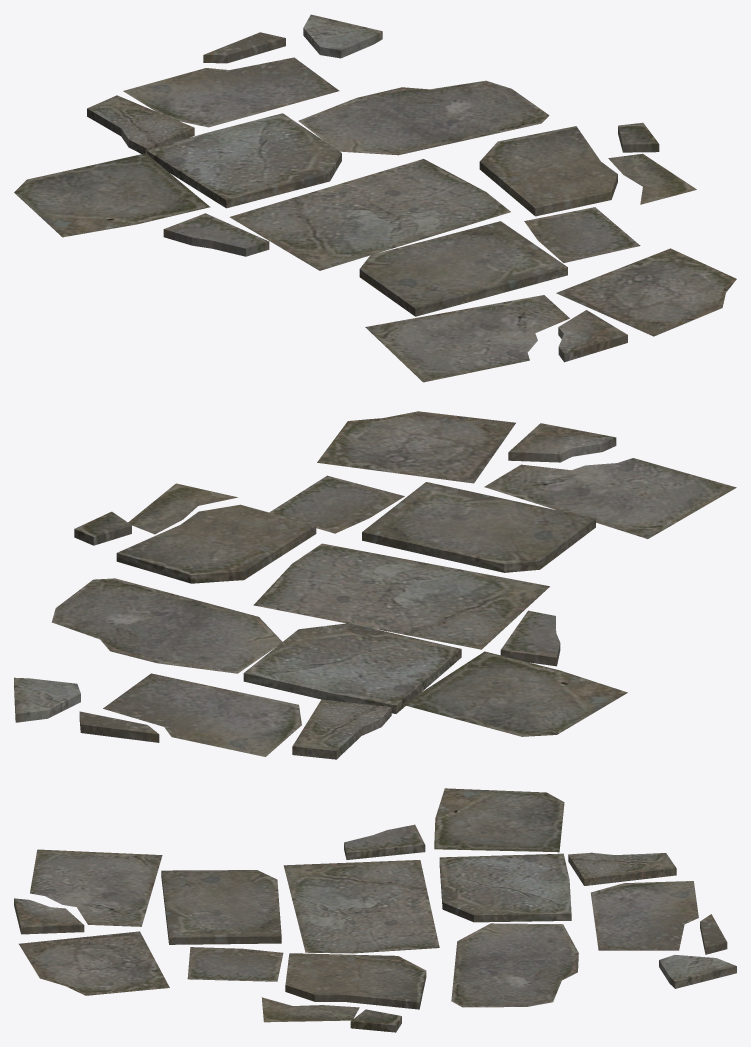
Rendered from bg_lut_lutomb_brick05_sm_old.FBX.
3 views of the same model, one above another, from view 1: azimuth 30°, elevation 25°; view 2: azimuth 150°, elevation 25°; view 3: azimuth 270°, elevation 25° (orthographic). The views are drawn at different scales.
Parts seen in each view (by area): view 1: bg_lut_lutomb_brick05_sm_old; view 2: bg_lut_lutomb_brick05_sm_old; view 3: bg_lut_lutomb_brick05_sm_old.
Part boxes in pixels (left/top/right/bottom): bg_lut_lutomb_brick05_sm_old: left=14, top=14, right=736, bottom=382; bg_lut_lutomb_brick05_sm_old: left=14, top=411, right=736, bottom=759; bg_lut_lutomb_brick05_sm_old: left=14, top=788, right=736, bottom=1032.
Size of the model in its own units: 259 by 3.62 by 333.
